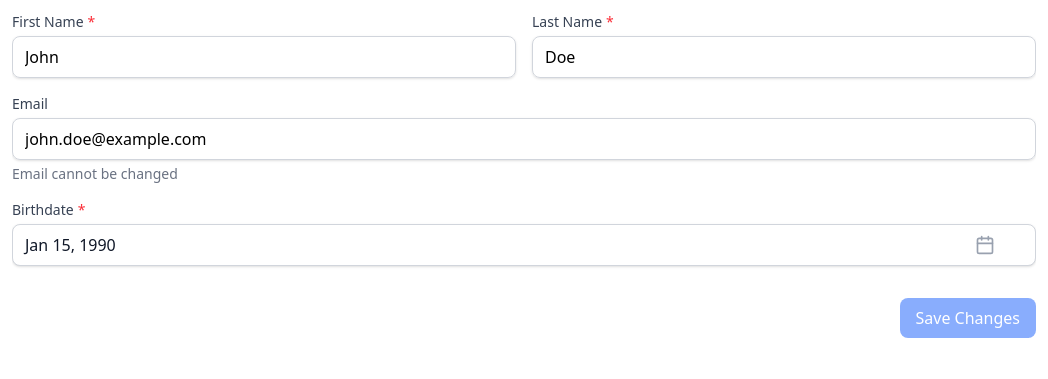
Scenario: ProfileForm › should display validation error for invalid first name
The width and height of the screenshot is (1048, 379).
Type "A" into the field showing "John".
click(264, 57); type("A")  # box [12,36,516,78]
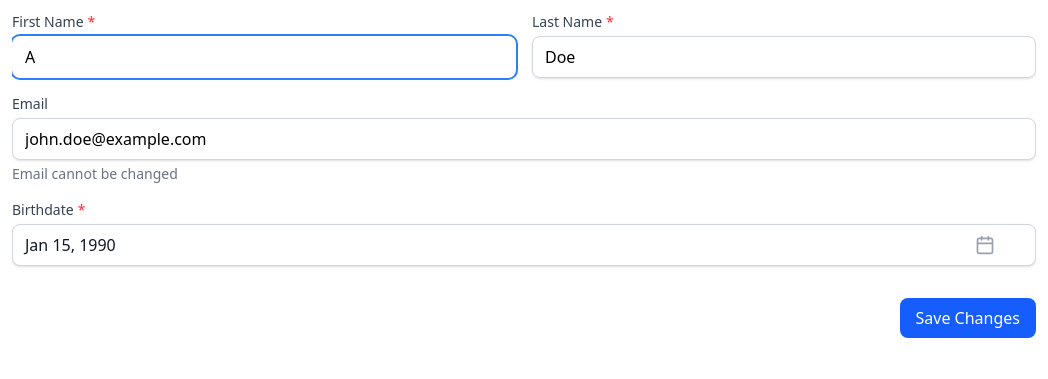
Click the button "Save Changes".
click(968, 318)  # box [900,298,1036,338]
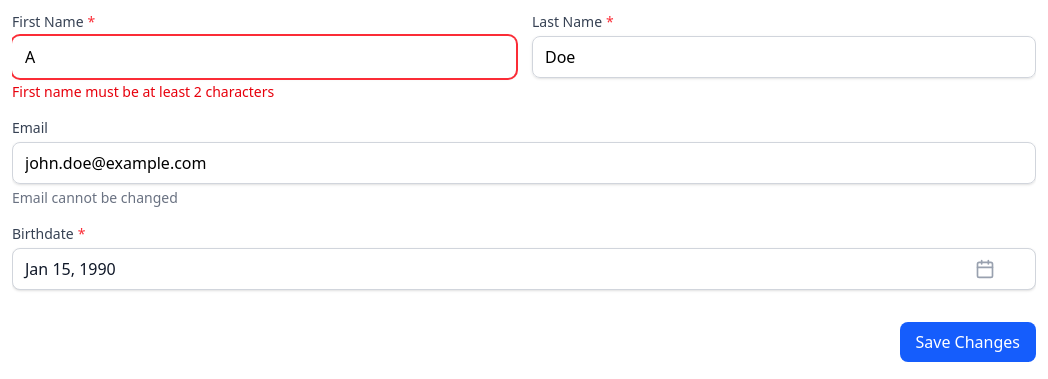
Check: the text "First name must be at least 2 characters" is shown, box [12,82,274,101]
